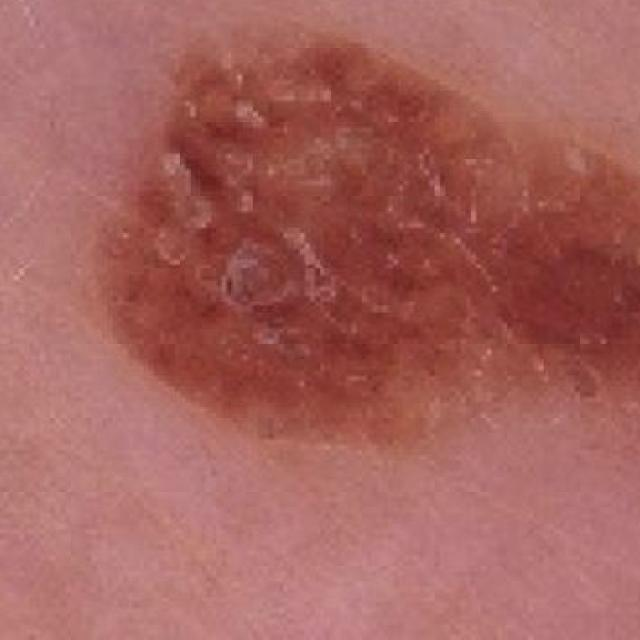BKL: (45, 22, 640, 540)
